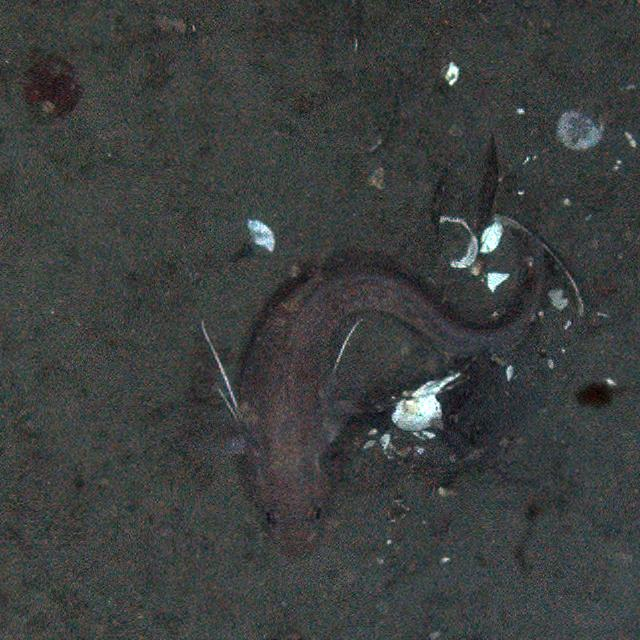roundfish: (185, 209, 563, 563)
